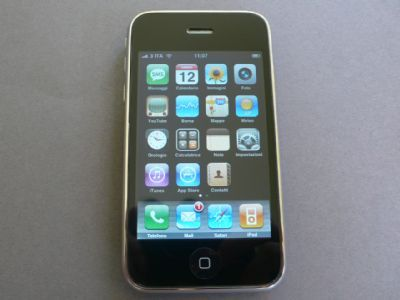mobil: (117, 8, 289, 294)
